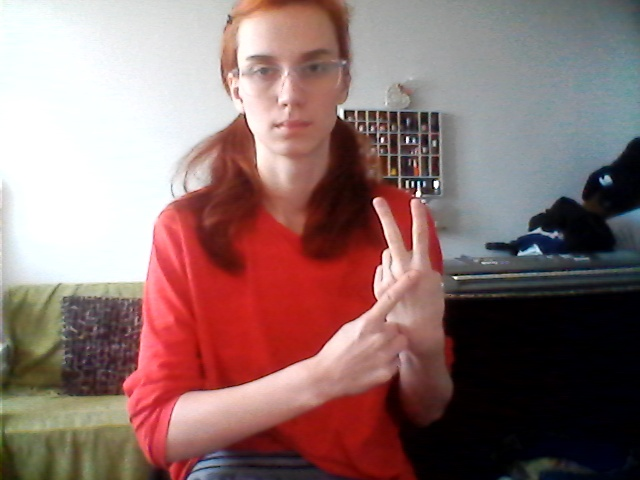y: (328, 194, 449, 398)
